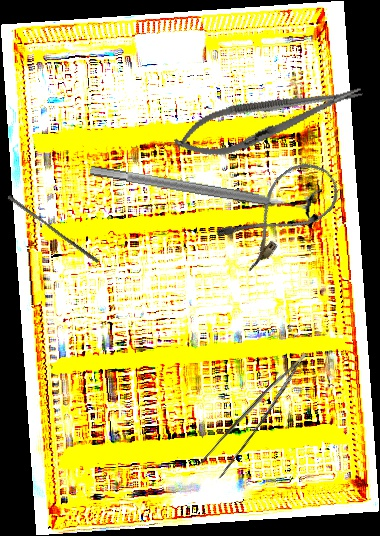Cannula: (212, 150, 349, 275)
Fixation Ring: (87, 152, 323, 224)
Needle Holder: (169, 69, 369, 169)
Pusher: (5, 194, 102, 264)
Tissue Forceps: (194, 351, 326, 483)
